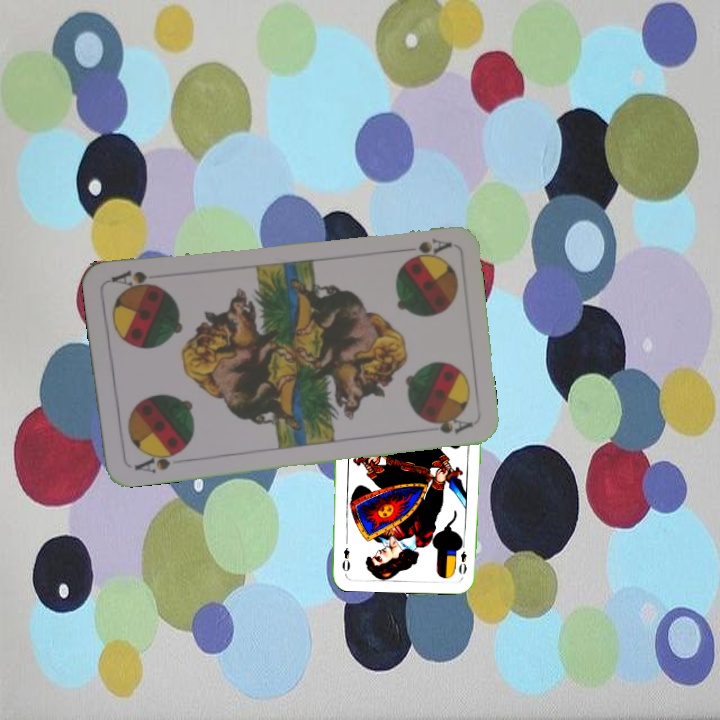EO: (455, 538, 469, 577)
SA: (395, 234, 454, 261), (131, 446, 184, 476)
